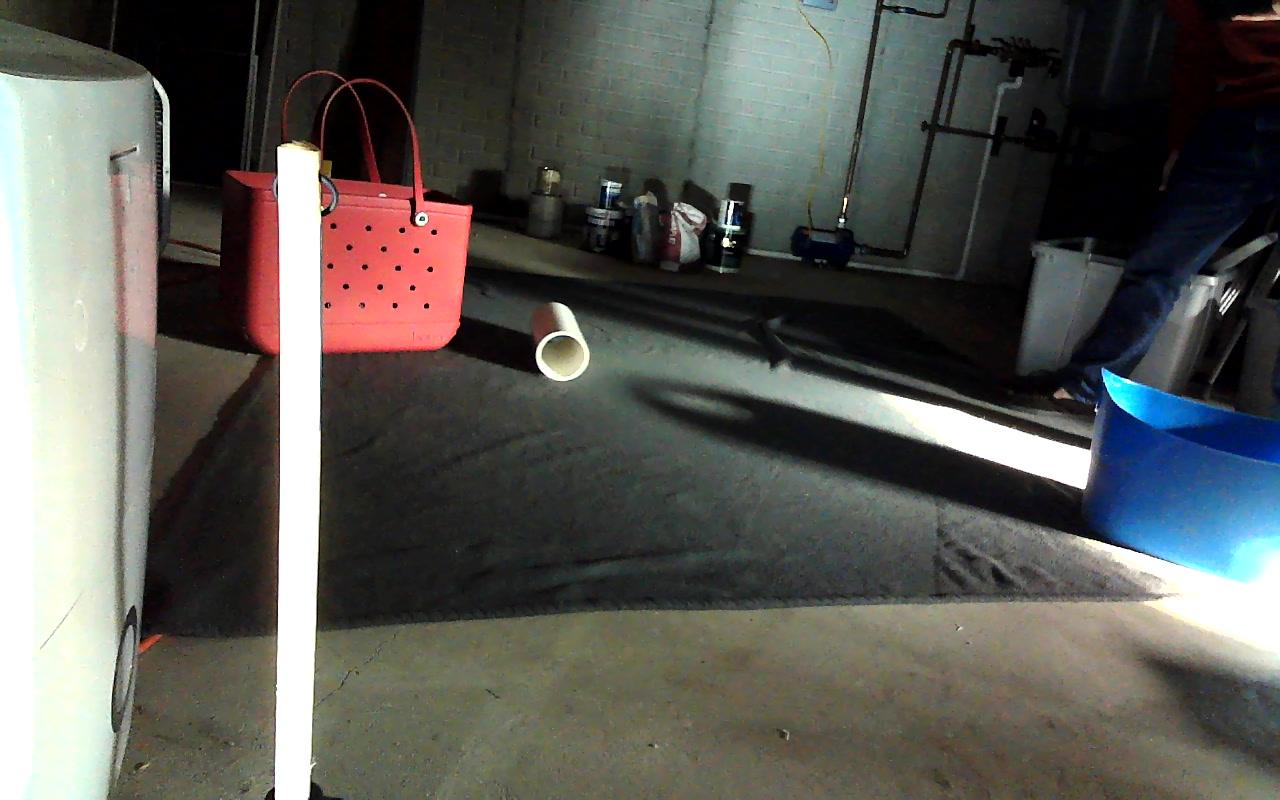coral: (534, 302, 587, 381)
